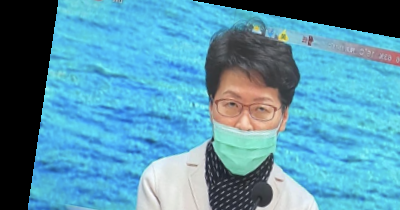mask_weared_incorrect: (202, 26, 306, 181)
